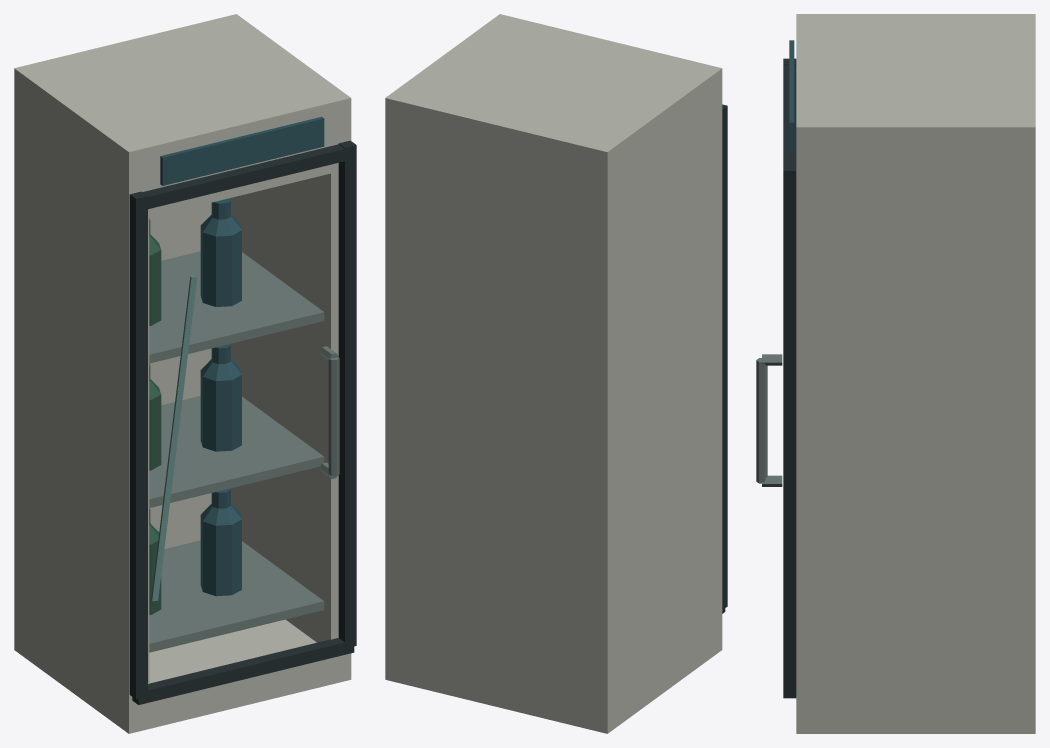
The picture shows the model from 3 angles, left to right: view 1: azimuth 30°, elevation 25°; view 2: azimuth 150°, elevation 25°; view 3: azimuth 270°, elevation 25°; orthographic projection. The views are drawn at different scales.
Parts seen in each view (by area): view 1: a129; view 2: a129; view 3: a129.
Part boxes in pixels (box(x1,y1,x2,y2)): a129: box(14, 14, 356, 733); a129: box(385, 14, 727, 733); a129: box(756, 14, 1035, 733).
Size of the model in its own units: 0.66 by 1.65 by 0.689.
